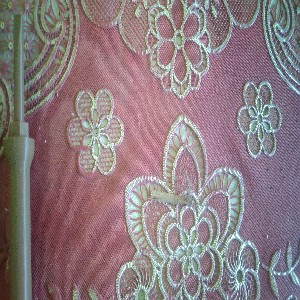obeng: (3, 11, 36, 300)
